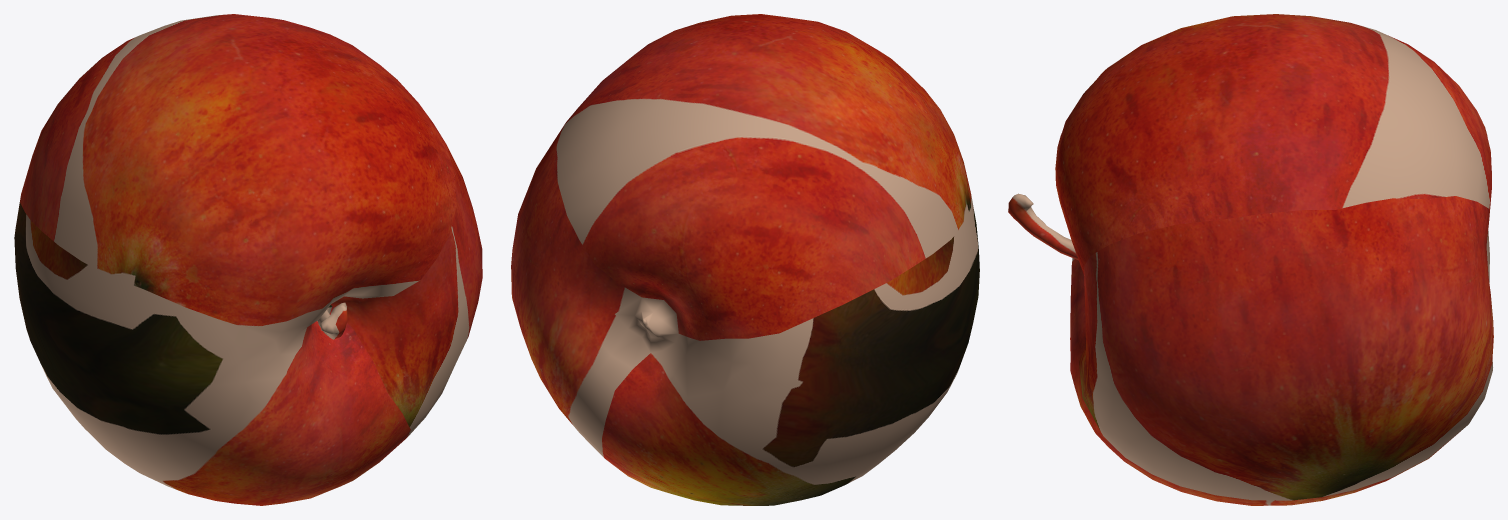
3 renders of one model, left to right at view 1: azimuth 30°, elevation 25°; view 2: azimuth 150°, elevation 25°; view 3: azimuth 270°, elevation 25°, orthographic. The views are drawn at different scales.
Size of the model in its own units: 0.9294 by 1 by 0.968.
